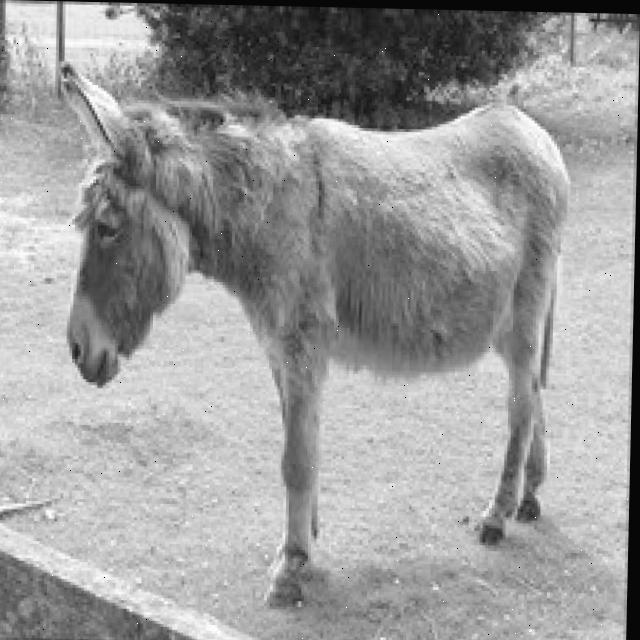Donkey: (44, 59, 573, 616)
